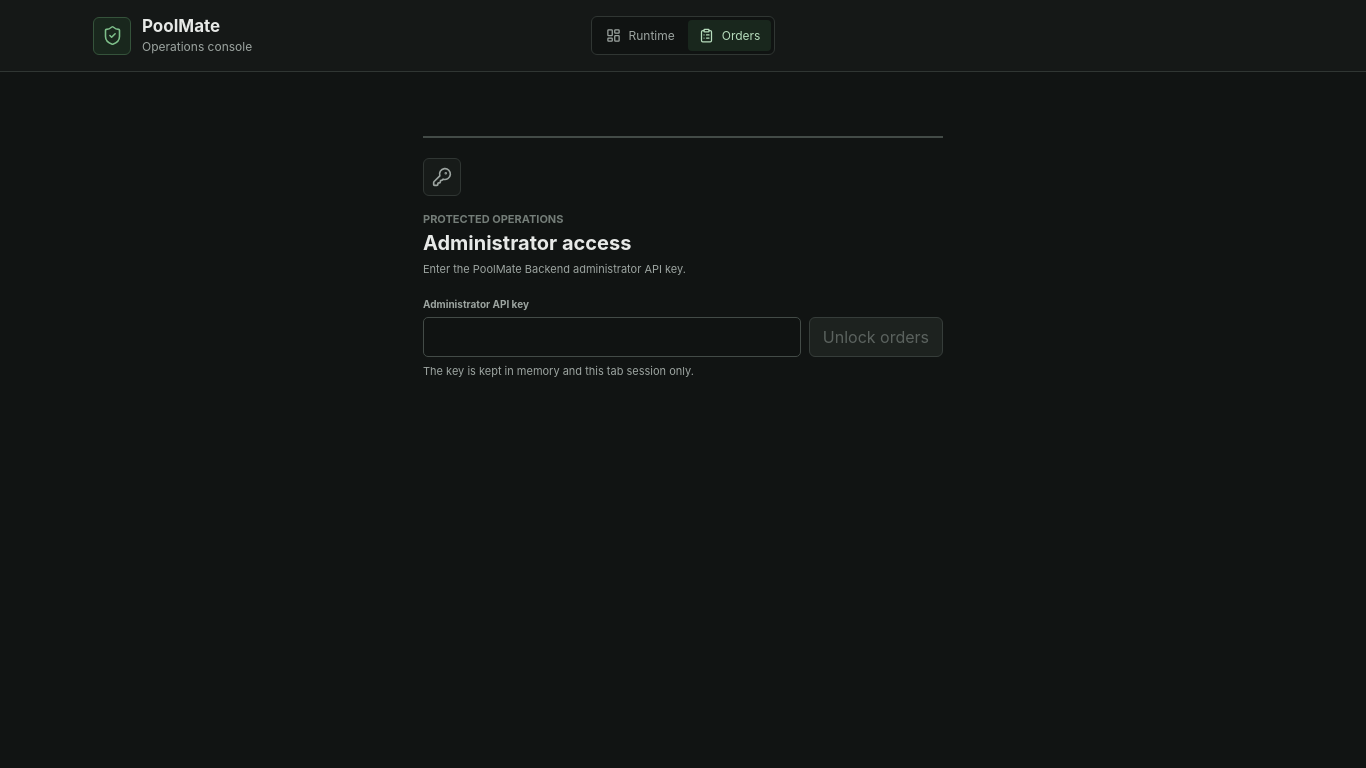
orders console › keeps orders behind a session-scoped administrator gate
The image size is (1366, 768).
Expected: the heading "Administrator access" is shown, top-left (423, 231), bottom-right (631, 255)
Type "admin-secret" into the password field labelled "Administrator API key" at (612, 337), box top-left (423, 317), bottom-right (801, 357)
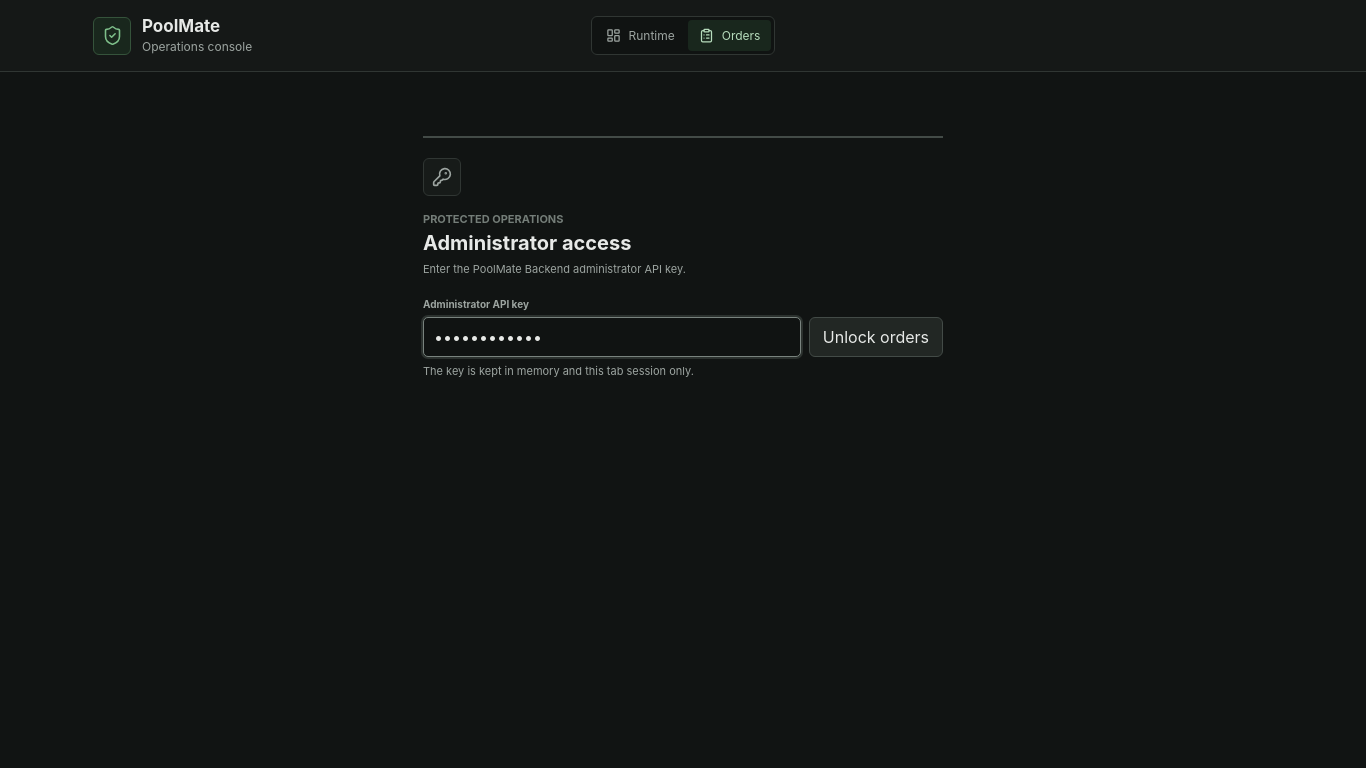
Click the button "Unlock orders" at (876, 337), box top-left (809, 317), bottom-right (943, 357)
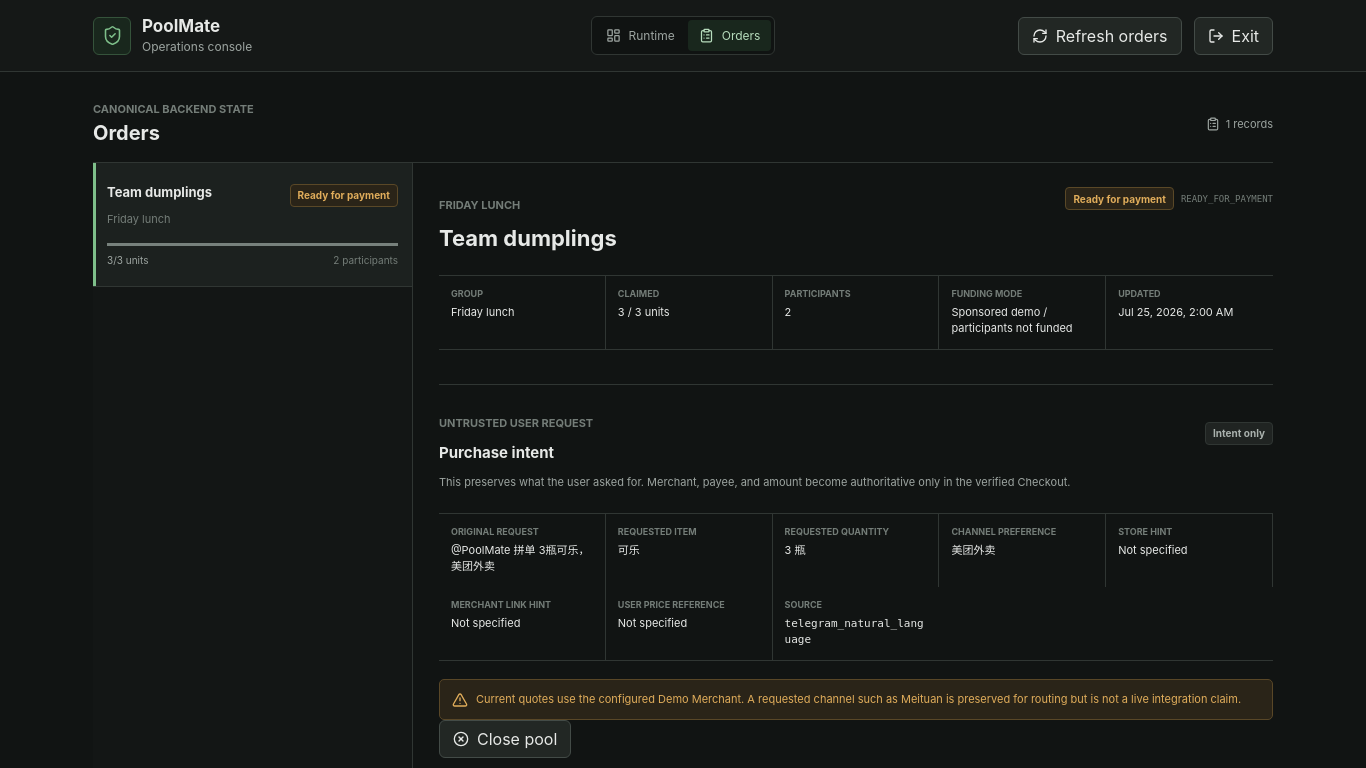
Click the button "Exit" at (1233, 36), box top-left (1194, 16), bottom-right (1273, 54)
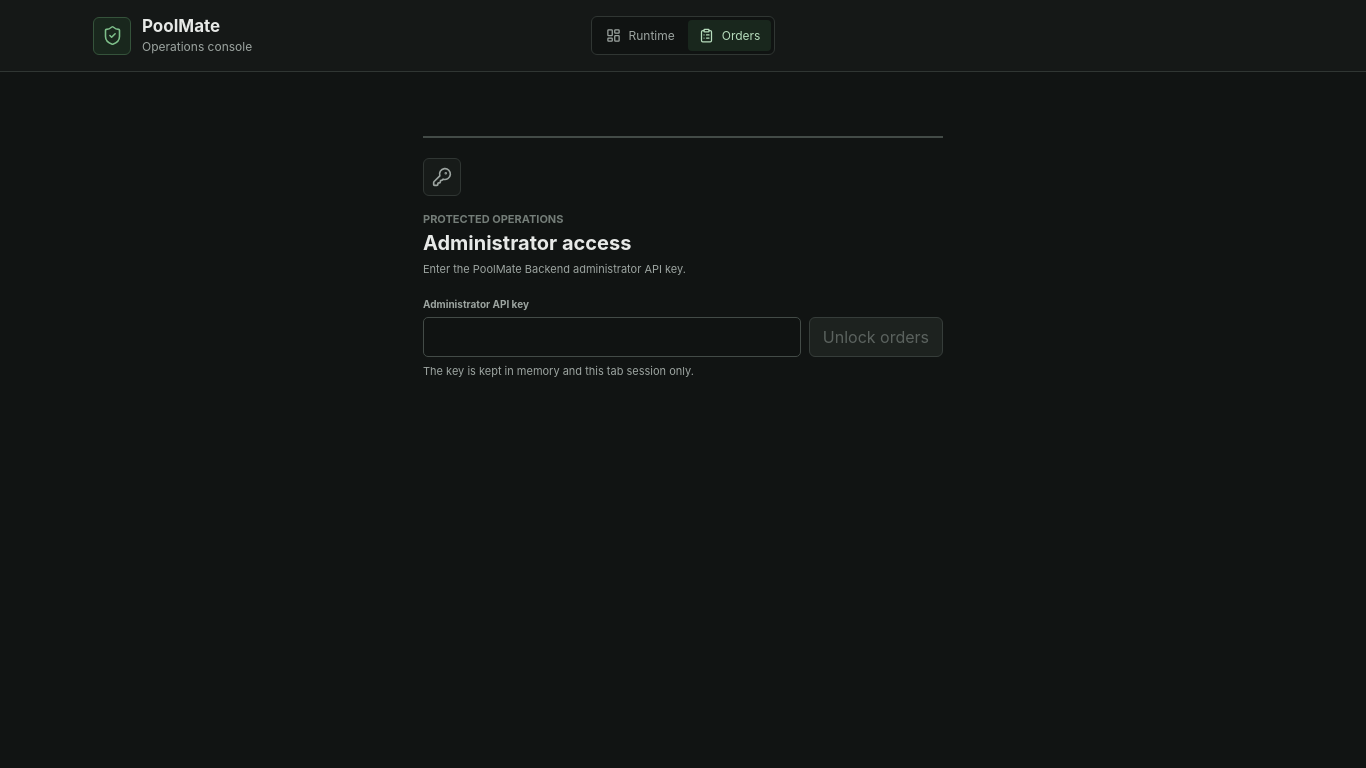
Now the heading "Administrator access" is shown, box top-left (423, 231), bottom-right (631, 255)
